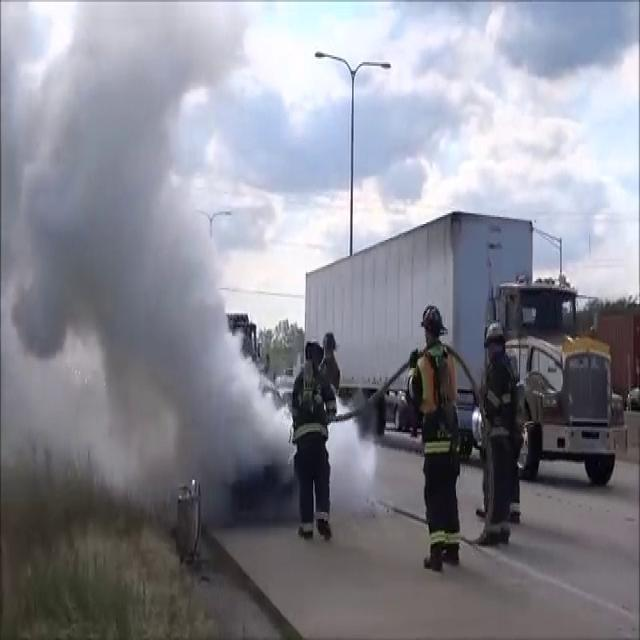Smoke: (3, 2, 286, 514)
